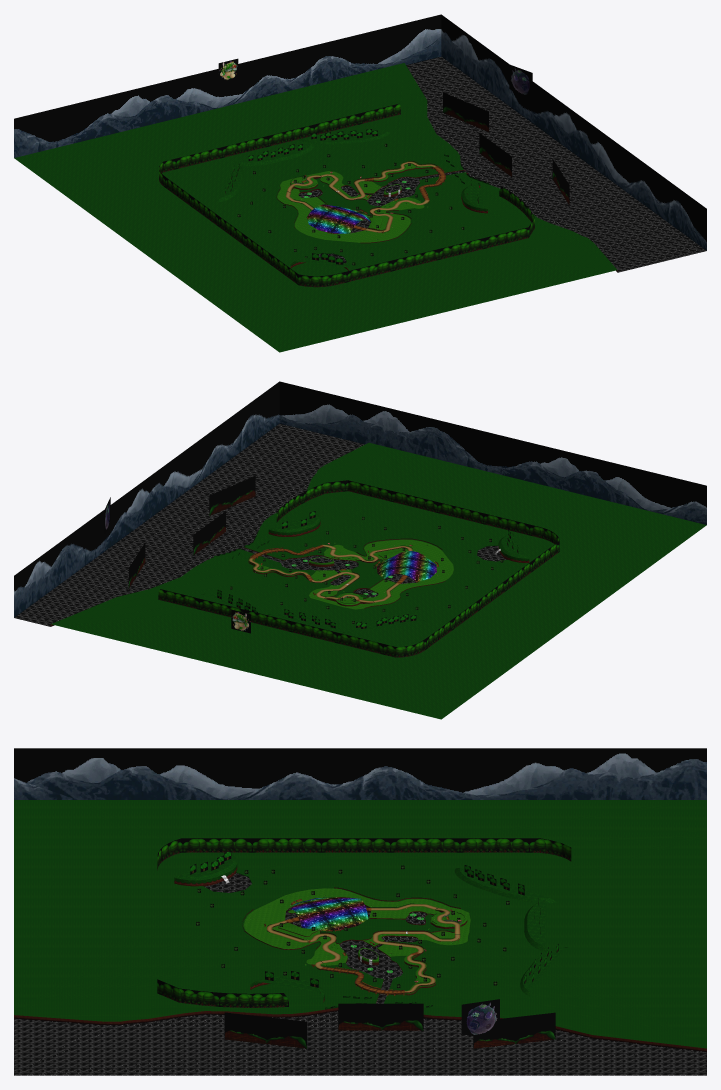
3 views of the same model, one above another, from view 1: azimuth 30°, elevation 25°; view 2: azimuth 150°, elevation 25°; view 3: azimuth 270°, elevation 25° (orthographic). The views are drawn at different scales.
Parts seen in each view (by area): view 1: model3_Main-oob, model3_Main-MountainRangee, model3_Main-ef_wave1P_Mip, model3_Main-bg, model3_Main-lightgrass, model3_Main-1, model3_Main-Warp, model3_Main-rr, model3_Main-tree1, model3_Main-texture, model3_Main-mix; view 2: model3_Main-oob, model3_Main-MountainRangee, model3_Main-ef_wave1P_Mip, model3_Main-bg, model3_Main-lightgrass, model3_Main-1, model3_Main-Warp, model3_Main-rr, model3_Main-tree1, model3_Main-rockwall2, model3_Main-mix, model3_Main-fence; view 3: model3_Main-oob, model3_Main-MountainRangee, model3_Main-ef_wave1P_Mip, model3_Main-bg, model3_Main-1, model3_Main-lightgrass, model3_Main-rockwall2, model3_Main-Warp, model3_Main-rr, model3_Main-texture, model3_Main-tree1, model3_Main-mix (+4 smaller).
Part boxes in pixels (x1,y1,x2,y2): model3_Main-oob: [14, 63, 616, 352]; model3_Main-MountainRangee: [14, 14, 706, 250]; model3_Main-ef_wave1P_Mip: [298, 56, 706, 272]; model3_Main-bg: [159, 104, 534, 287]; model3_Main-lightgrass: [278, 161, 435, 241]; model3_Main-1: [443, 92, 569, 205]; model3_Main-Warp: [306, 204, 370, 233]; model3_Main-rr: [285, 162, 436, 232]; model3_Main-tree1: [225, 129, 478, 264]; model3_Main-texture: [509, 64, 532, 95]; model3_Main-mix: [276, 170, 425, 243]; model3_Main-oob: [51, 442, 706, 719]; model3_Main-MountainRangee: [14, 381, 706, 617]; model3_Main-ef_wave1P_Mip: [14, 423, 506, 626]; model3_Main-bg: [158, 480, 559, 657]; model3_Main-lightgrass: [248, 540, 451, 609]; model3_Main-1: [128, 476, 255, 588]; model3_Main-Warp: [377, 551, 436, 582]; model3_Main-rr: [249, 544, 412, 602]; model3_Main-tree1: [217, 511, 518, 628]; model3_Main-rockwall2: [50, 546, 393, 626]; model3_Main-mix: [308, 539, 454, 609]; model3_Main-fence: [248, 538, 445, 608]; model3_Main-oob: [14, 800, 706, 1048]; model3_Main-MountainRangee: [14, 748, 706, 799]; model3_Main-ef_wave1P_Mip: [14, 873, 706, 1075]; model3_Main-bg: [157, 838, 571, 1007]; model3_Main-1: [224, 1003, 555, 1048]; model3_Main-lightgrass: [246, 889, 469, 990]; model3_Main-rockwall2: [14, 905, 706, 1051]; model3_Main-Warp: [287, 897, 368, 931]; model3_Main-rr: [266, 904, 460, 992]; model3_Main-texture: [461, 999, 499, 1036]; model3_Main-tree1: [190, 850, 558, 987]; model3_Main-mix: [242, 888, 471, 965].
Size of the model in its own units: 324888 by 39599 by 349692.
Materials: 28 (27 with a texture image).
